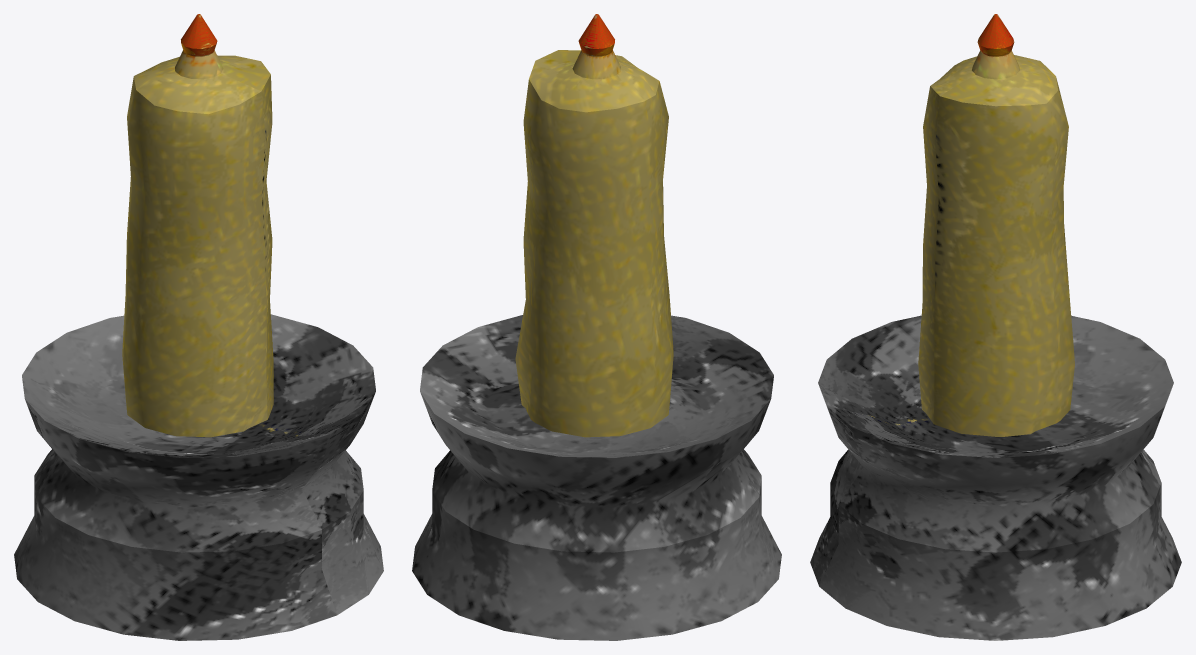
The model's file is bougie.fbx.
The picture shows the model from 3 angles, left to right: view 1: azimuth 30°, elevation 25°; view 2: azimuth 150°, elevation 25°; view 3: azimuth 270°, elevation 25°; orthographic projection.
Visible parts, largest first — view 1: Bougie; view 2: Bougie; view 3: Bougie.
Boxes of the visible parts, x1=… form: Bougie: x1=14, y1=14, x2=383, y2=640; Bougie: x1=412, y1=14, x2=781, y2=640; Bougie: x1=810, y1=14, x2=1181, y2=640.
Bounding box in the file's own units: 1117 × 1815 × 1117.
1 material, 1 textured.
